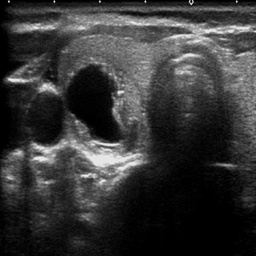mass: (59, 59, 137, 152)
